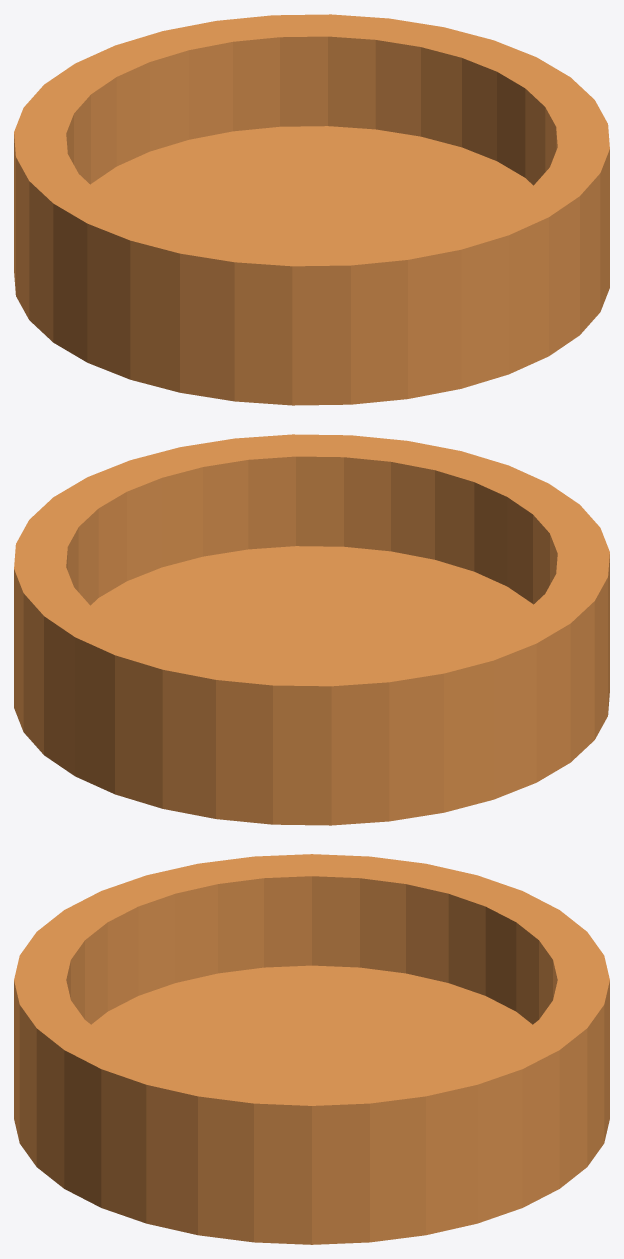
File: steamer.glb
3 views of the same model, one above another, from view 1: azimuth 30°, elevation 25°; view 2: azimuth 150°, elevation 25°; view 3: azimuth 270°, elevation 25° (orthographic).
Visible parts, largest first — view 1: Cylinder; view 2: Cylinder; view 3: Cylinder.
Boxes of the visible parts, x1,y1,x2,y2 form: Cylinder: (14,14,609,405); Cylinder: (14,434,609,825); Cylinder: (14,854,609,1244).
Size of the model in its own units: 2 by 0.5143 by 2.
